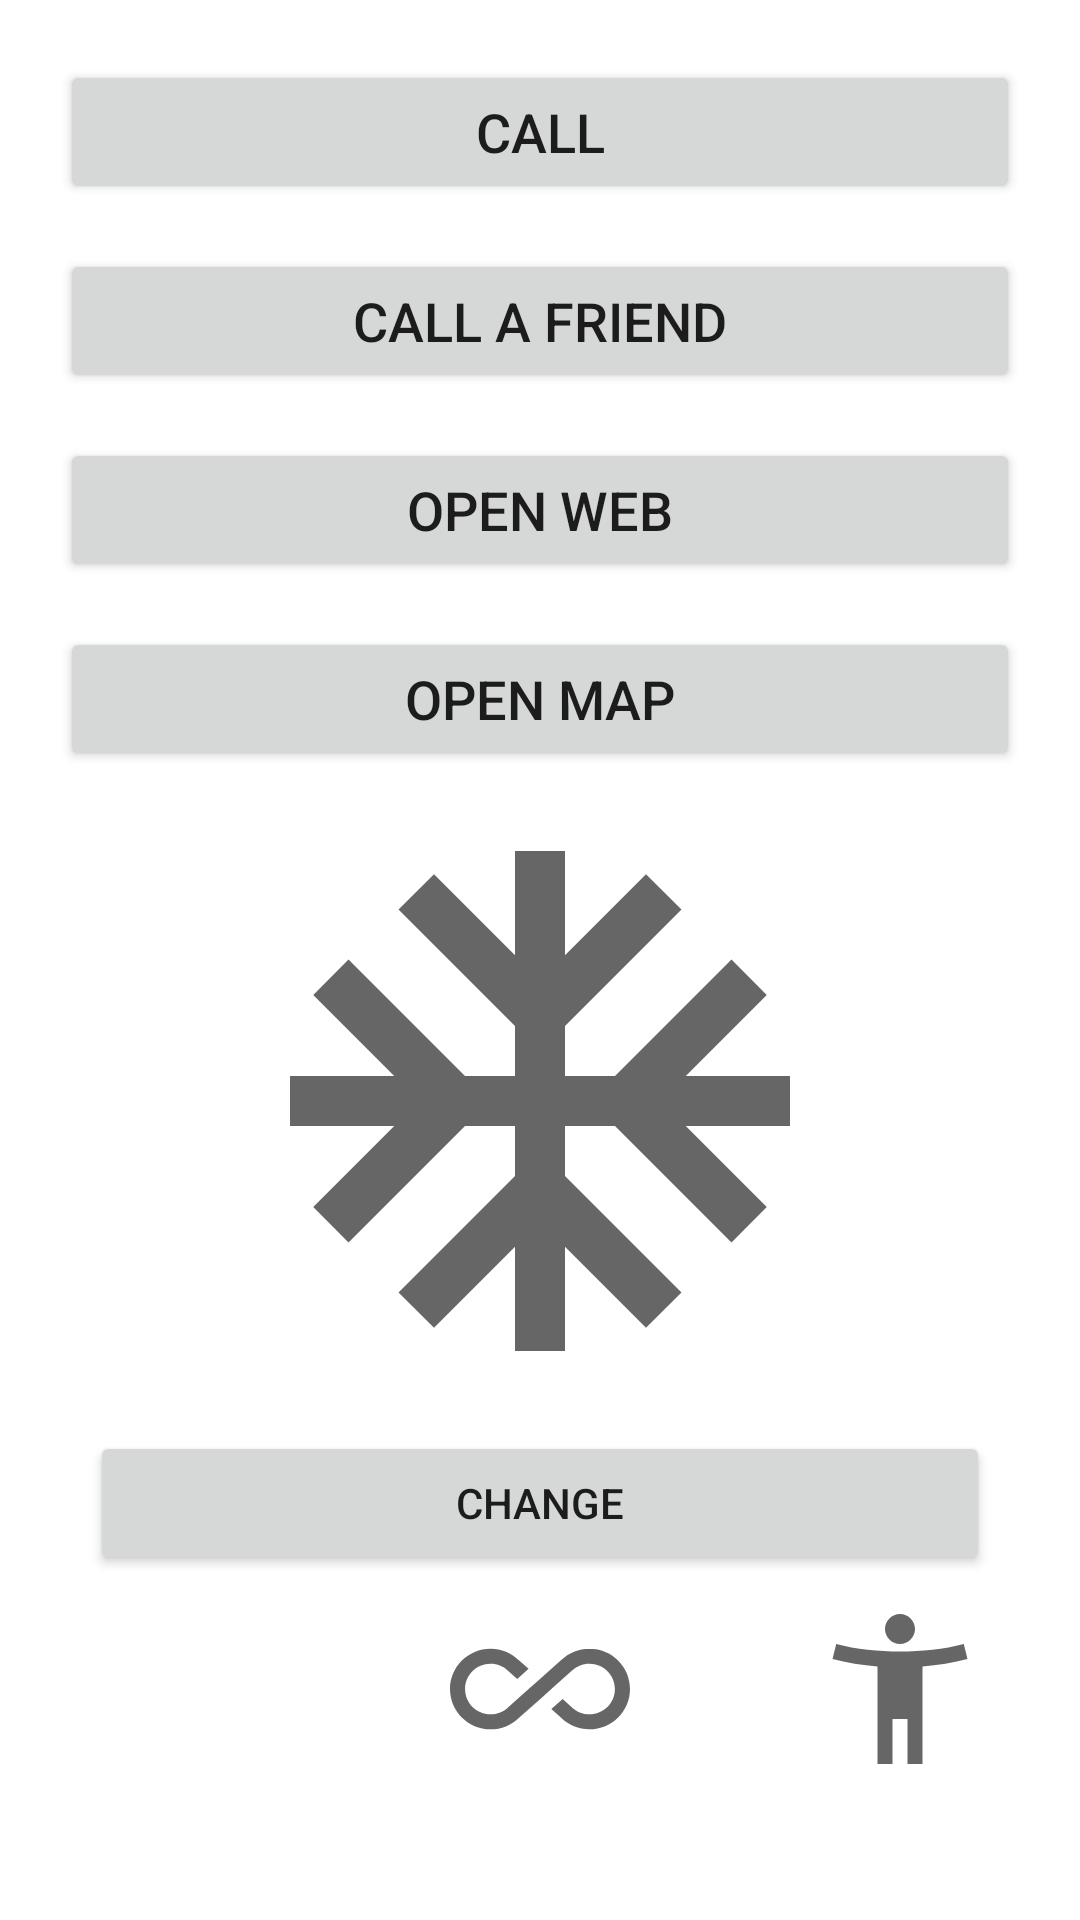

Named icons in this screenshot (1080×1920) and their centers, (x,y):
infinity: (540,1689)
man: (900,1689)
